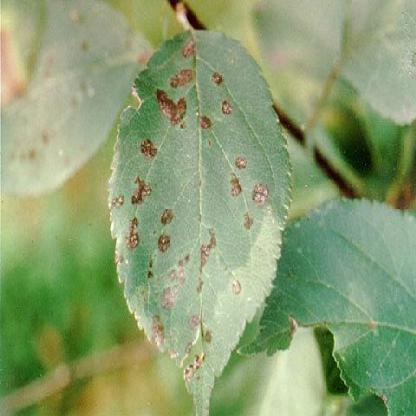Apple Scab Leaf: (109, 22, 298, 414)
